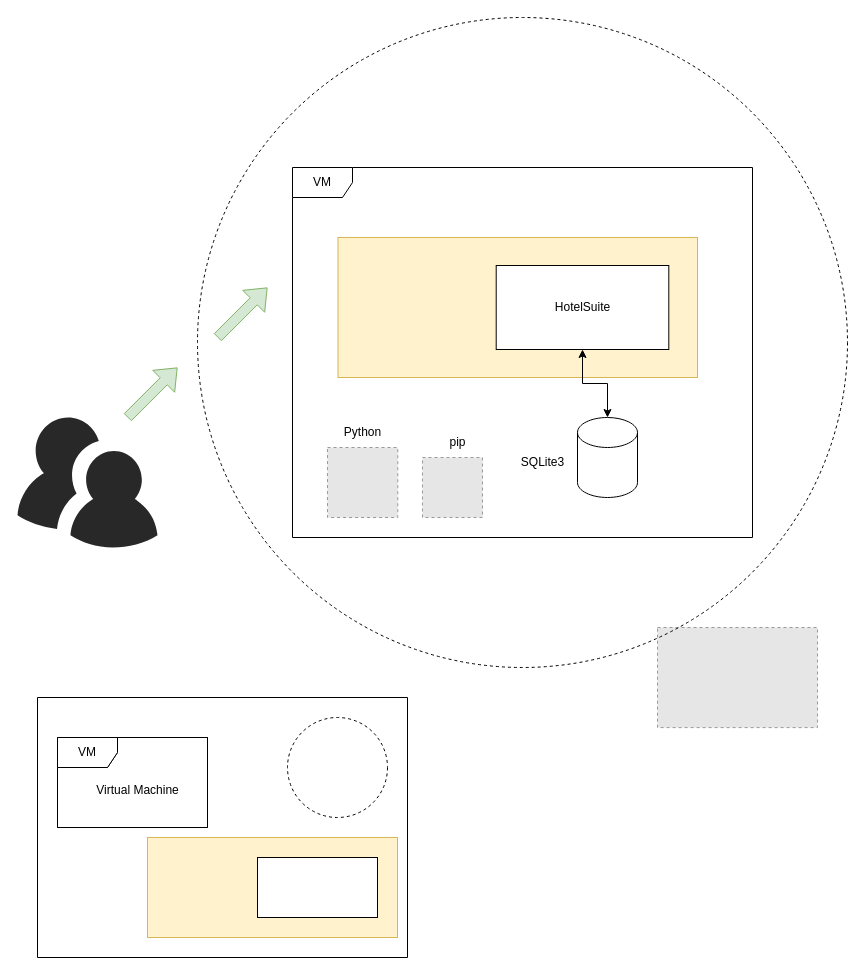
This 865x975 diagram has some shape labels left out. Grey dashed boxes stand in for pictures. The centre of each missing label's shape, as x and y in pixels:
"App" belongs at (x=317, y=887).
"Cloud" belongs at (x=337, y=767).
